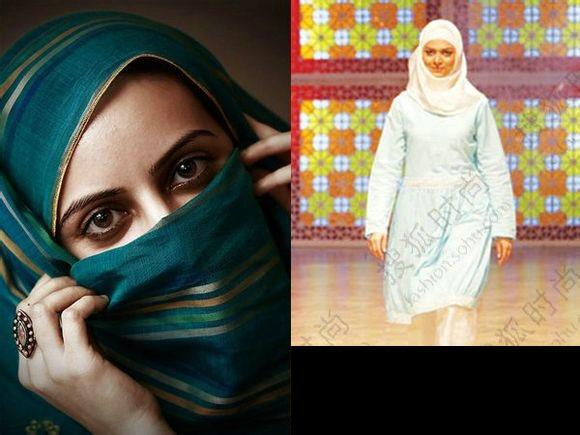NONE: (420, 44, 456, 75)
OK: (55, 107, 273, 325)
